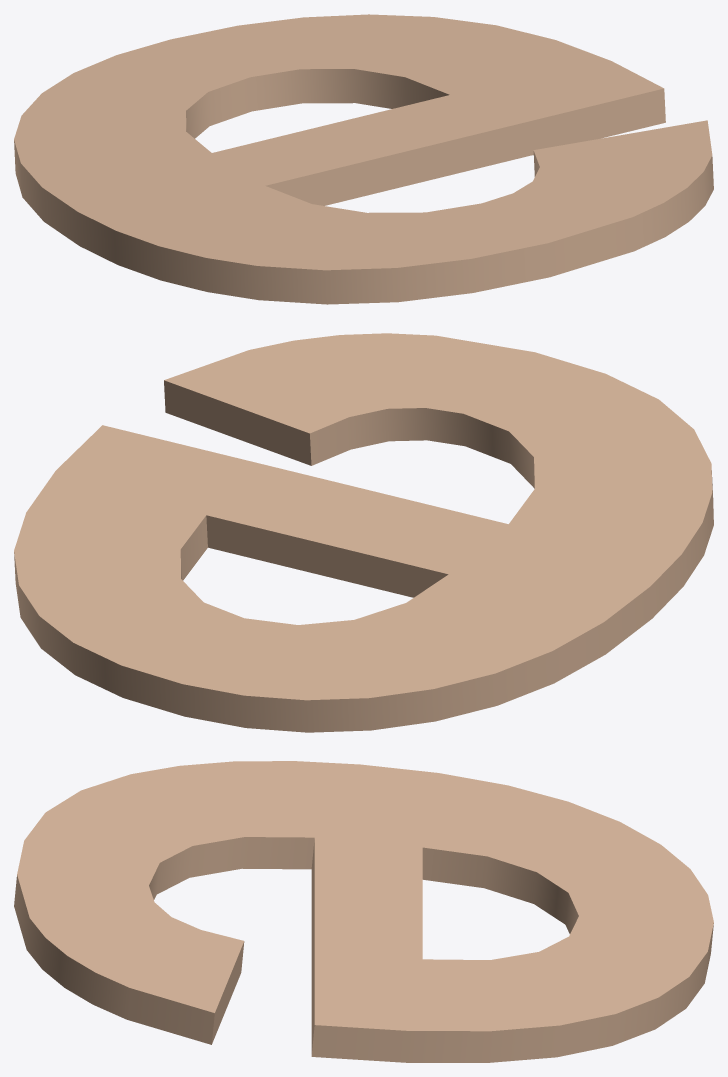
The model's file is original-20.obj.
3 views of the same model, one above another, from view 1: azimuth 30°, elevation 25°; view 2: azimuth 150°, elevation 25°; view 3: azimuth 270°, elevation 25° (orthographic). The views are drawn at different scales.
Visible parts, largest first — view 1: mesh92/mesh92-geometry#mesh92-geometry; view 2: mesh92/mesh92-geometry#mesh92-geometry; view 3: mesh92/mesh92-geometry#mesh92-geometry.
Boxes of the visible parts, bbox=[...] form: mesh92/mesh92-geometry#mesh92-geometry: bbox=[14, 14, 713, 304]; mesh92/mesh92-geometry#mesh92-geometry: bbox=[14, 333, 713, 732]; mesh92/mesh92-geometry#mesh92-geometry: bbox=[14, 761, 713, 1062].
Bounding box in the file's own units: 0.0122 × 0.00187 × 0.0137.
